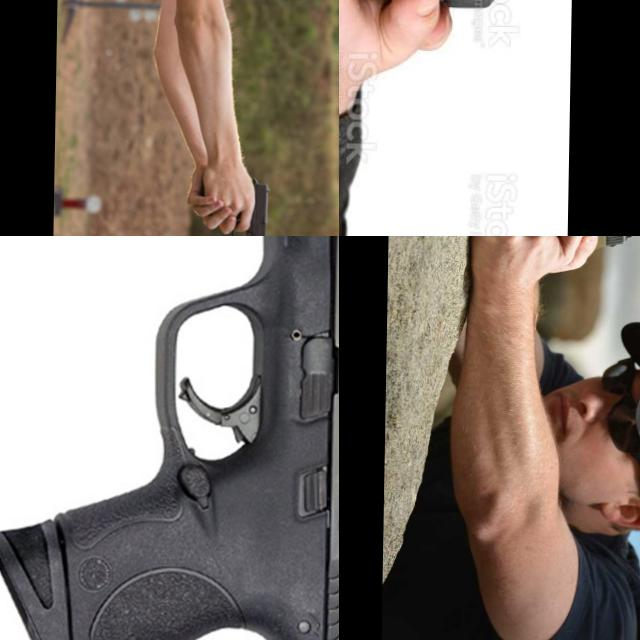handgun: (0, 236, 339, 640), (339, 0, 524, 78), (548, 236, 637, 310), (223, 168, 270, 236)
